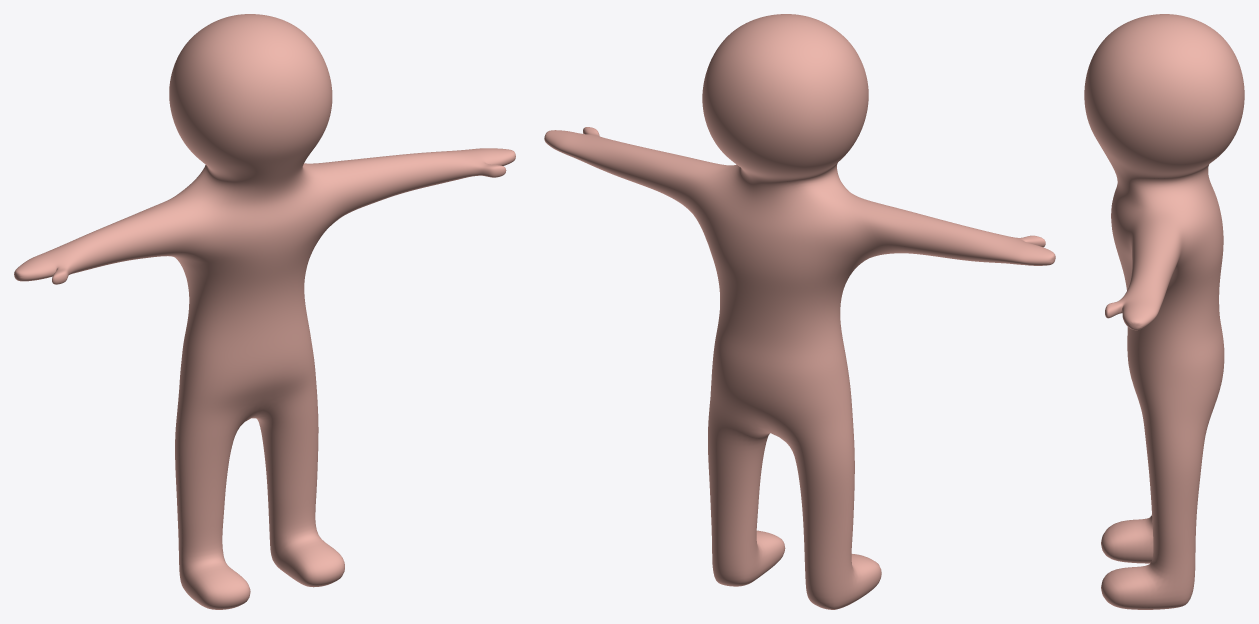
File: Karakter.fbx
3 views of the same model, side by side, from view 1: azimuth 30°, elevation 25°; view 2: azimuth 150°, elevation 25°; view 3: azimuth 270°, elevation 25° (orthographic).
Visible parts, largest first — view 1: karakter_high1; view 2: karakter_high1; view 3: karakter_high1.
Part boxes in pixels (<box>): karakter_high1: <box>14,14,515,609</box>; karakter_high1: <box>544,14,1055,609</box>; karakter_high1: <box>1084,14,1244,609</box>.
Bounding box in the file's own units: 8.89 × 9.55 × 2.48.
